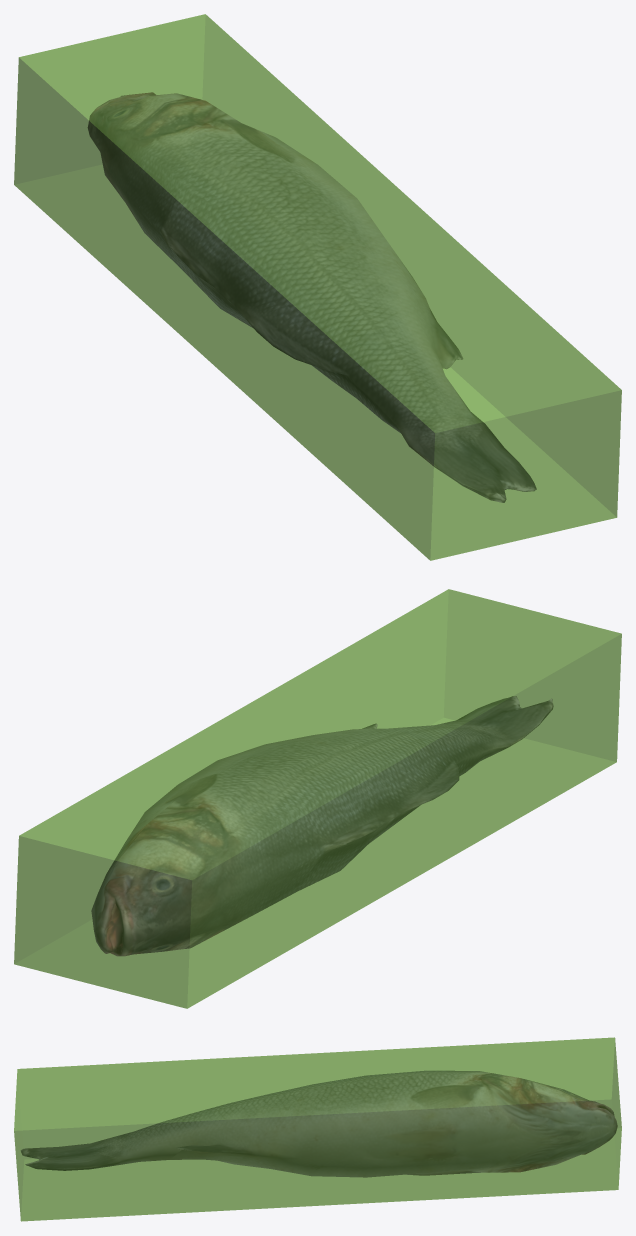
The model's file is pg_Fish_01.fbx.
3 renders of one model, top to bottom at view 1: azimuth 30°, elevation 25°; view 2: azimuth 150°, elevation 25°; view 3: azimuth 270°, elevation 25°, orthographic. The views are drawn at different scales.
Parts seen in each view (by area): view 1: pg_Fish_01_a_col, pg_Fish_01_a_LOD0; view 2: pg_Fish_01_a_col, pg_Fish_01_a_LOD0; view 3: pg_Fish_01_a_col, pg_Fish_01_a_LOD0.
Part boxes in pixels (left/top/right/bottom): pg_Fish_01_a_col: left=14, top=14, right=621, bottom=560; pg_Fish_01_a_LOD0: left=87, top=92, right=536, bottom=502; pg_Fish_01_a_col: left=14, top=589, right=621, bottom=1008; pg_Fish_01_a_LOD0: left=91, top=696, right=553, bottom=956; pg_Fish_01_a_col: left=14, top=1037, right=621, bottom=1221; pg_Fish_01_a_LOD0: left=21, top=1070, right=617, bottom=1177.
Size of what is drawn, in the model's own units: 12.98 by 11.4 by 49.12.
